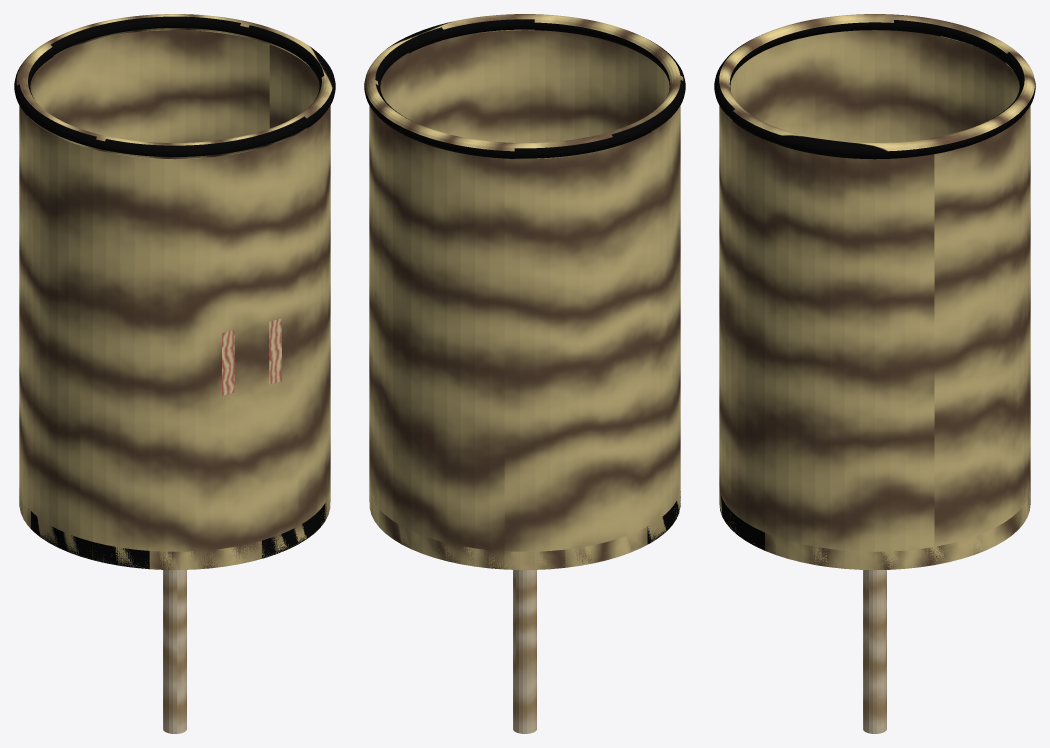
File: lot-tube.gltf
The picture shows the model from 3 angles, left to right: view 1: azimuth 30°, elevation 25°; view 2: azimuth 150°, elevation 25°; view 3: azimuth 270°, elevation 25°; orthographic projection.
Parts seen in each view (by area): view 1: TubeBody, TubeRim, TubeBase, LotStick, LotSeal; view 2: TubeBody, TubeRim, TubeBase, LotStick; view 3: TubeBody, TubeRim, TubeBase, LotStick.
Boxes of the visible parts, <box> form: TubeBody: <box>19,30,330,569</box>; TubeRim: <box>14,14,335,159</box>; TubeBase: <box>19,484,330,569</box>; LotStick: <box>163,570,186,733</box>; LotSeal: <box>222,318,281,395</box>; TubeBody: <box>369,30,680,569</box>; TubeRim: <box>364,14,685,159</box>; TubeBase: <box>369,484,680,569</box>; LotStick: <box>513,570,536,733</box>; TubeBody: <box>719,30,1030,569</box>; TubeRim: <box>714,14,1035,159</box>; TubeBase: <box>719,487,1030,569</box>; LotStick: <box>863,570,886,733</box>.
Size of the model in its own units: 1.12 by 2.49 by 1.12.
3 materials, 3 textured.
